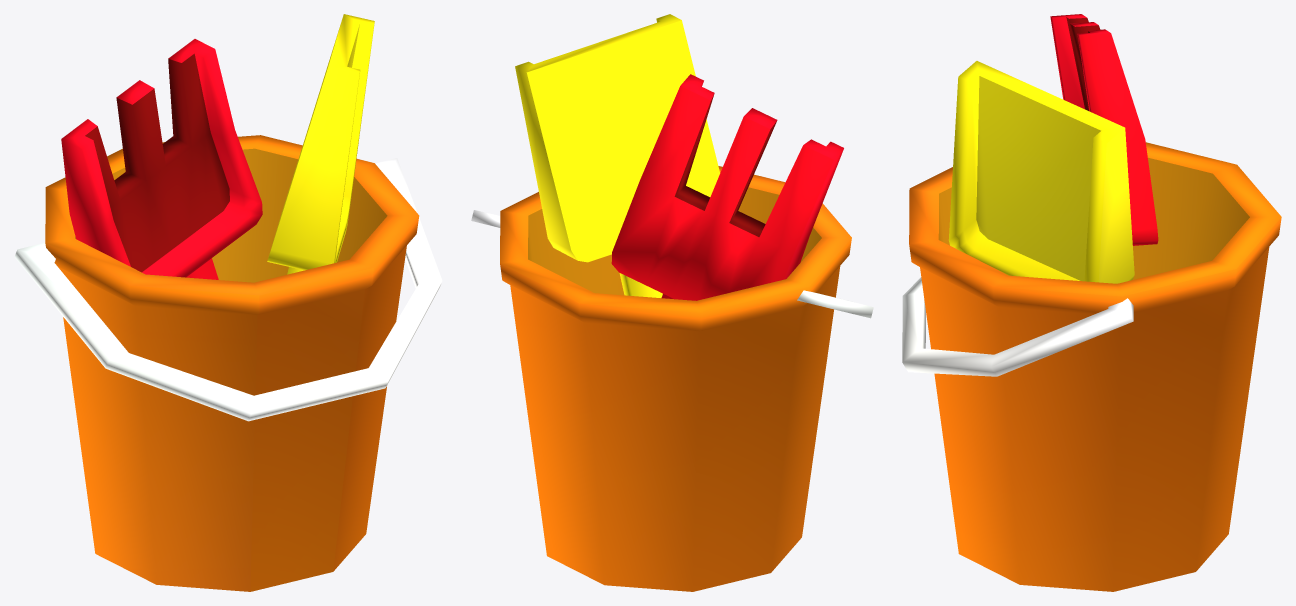
File: BeachToyBucketOrangeToys.glb
The picture shows the model from 3 angles, left to right: view 1: azimuth 30°, elevation 25°; view 2: azimuth 150°, elevation 25°; view 3: azimuth 270°, elevation 25°; orthographic projection. The views are drawn at different scales.
Parts seen in each view (by area): view 1: BeachToyBucketOrangeToys; view 2: BeachToyBucketOrangeToys; view 3: BeachToyBucketOrangeToys.
Boxes of the visible parts, <box> form: BeachToyBucketOrangeToys: <box>14,14,442,591</box>; BeachToyBucketOrangeToys: <box>471,14,873,591</box>; BeachToyBucketOrangeToys: <box>902,14,1281,591</box>.
Bounding box in the file's own units: 0.4322 × 0.5412 × 0.3758.
1 material, 1 textured.
